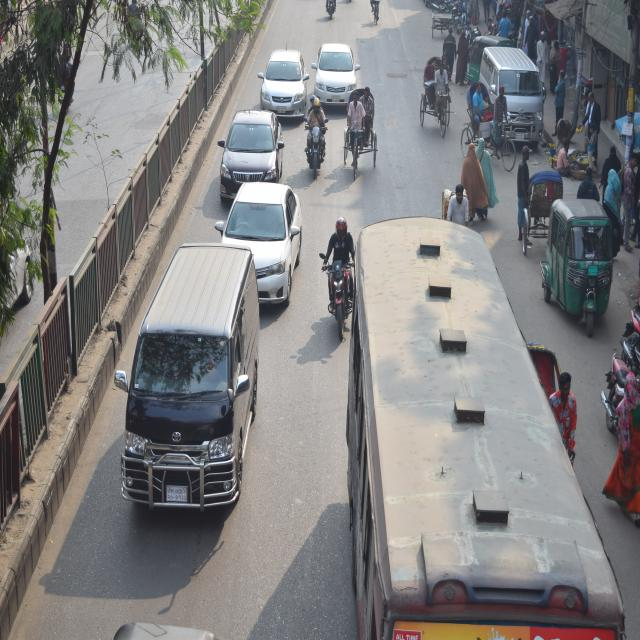bus: (348, 230, 636, 640)
car: (228, 180, 312, 310), (225, 100, 284, 193), (260, 42, 303, 118), (307, 38, 362, 96)
microbus: (126, 236, 270, 501), (476, 46, 554, 147)
motorbike: (318, 218, 367, 321), (298, 93, 328, 180)
